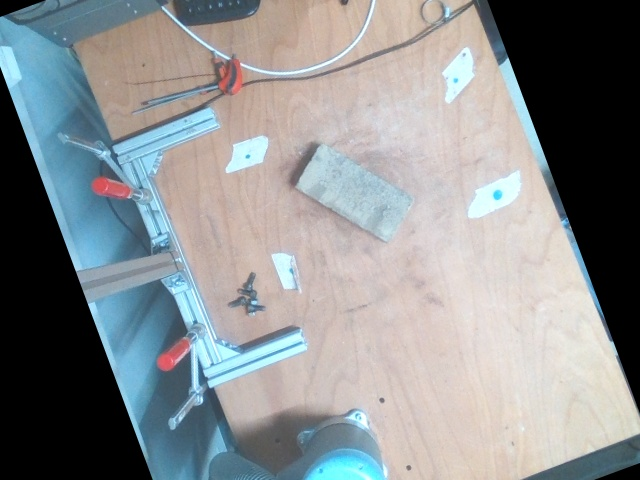brick: (297, 143, 411, 239)
